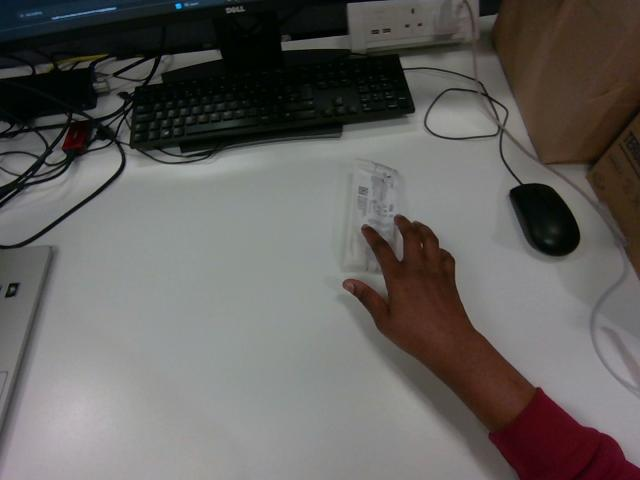syringe: (342, 160, 399, 272)
